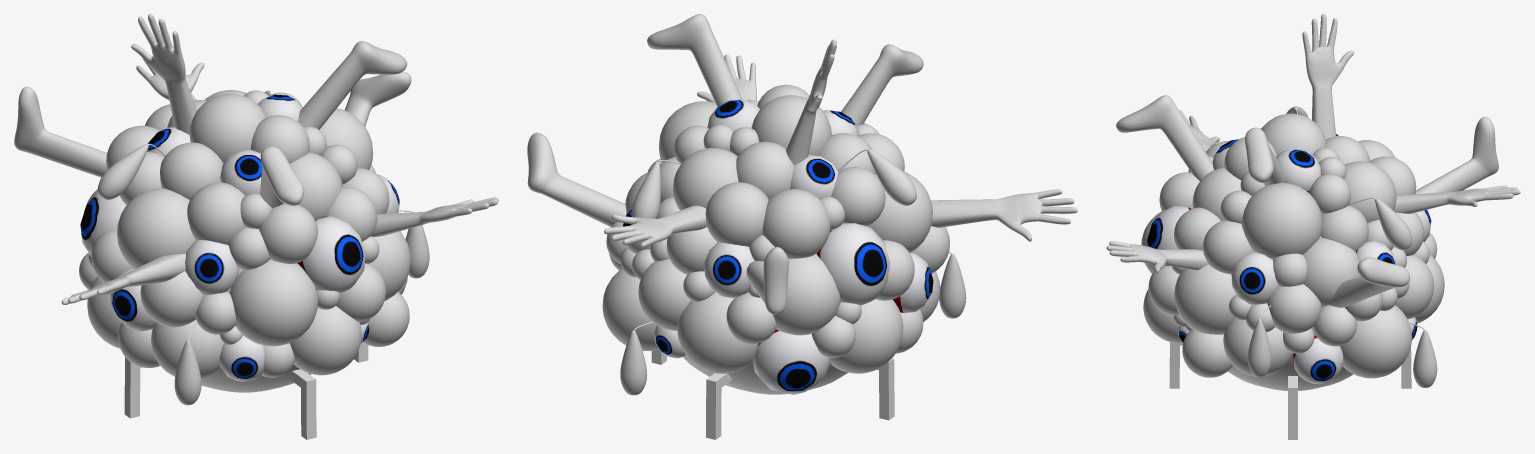
Rendered from eye_art 1.FBX.
The picture shows the model from 3 angles, left to right: view 1: azimuth 30°, elevation 25°; view 2: azimuth 150°, elevation 25°; view 3: azimuth 270°, elevation 25°; orthographic projection. The views are drawn at different scales.
Parts seen in each view (by area): view 1: Sphere031, Sphere030, Sphere006, Sphere039, Sphere028, Box004, Box006, Box003, Sphere066, Sphere060, Sphere040, Sphere064 (+37 smaller); view 2: Sphere008, Sphere036, Box008, Sphere065, Sphere032, Sphere024, Box007, Sphere035, Box004, Sphere016, Sphere015, Sphere037 (+38 smaller); view 3: Sphere034, Sphere037, Sphere033, Box003, Box002, Sphere021, Box006, Box007, Sphere015, Sphere041, Sphere028, Sphere038 (+38 smaller).
Boxes of the visible parts, x1,y1,x2,y2 form: Sphere031: (229,259,317,346); Sphere030: (117,188,195,269); Sphere006: (297,216,365,292); Sphere039: (289,306,361,375); Sphere028: (189,93,266,162); Box004: (298,41,407,129); Box006: (14,87,106,177); Box003: (131,14,197,135); Sphere066: (187,182,245,245); Sphere060: (259,203,317,263); Sphere040: (151,319,223,378); Sphere064: (160,142,223,199); Sphere008: (816,223,889,305); Sphere036: (677,292,758,373); Box008: (931,189,1077,241); Sphere065: (762,189,830,258); Sphere032: (772,254,840,335); Sphere024: (752,329,829,394); Box007: (527,132,626,226); Sphere035: (830,299,903,373); Box004: (647,14,742,106); Sphere016: (705,182,768,246); Sphere015: (673,148,738,210); Sphere037: (602,269,658,350); Sphere034: (1241,182,1322,259); Sphere037: (1340,305,1411,378); Sphere033: (1174,264,1236,334); Box003: (1302,14,1354,139); Box002: (1116,95,1213,180); Sphere021: (1303,237,1360,306); Box006: (1415,116,1498,194); Box007: (1329,257,1410,307); Sphere015: (1344,161,1396,223); Sphere041: (1267,284,1321,333); Sphere028: (1261,113,1326,155); Sphere038: (1223,319,1292,376).
Bounding box in the file's own units: 137 × 112 × 123.
